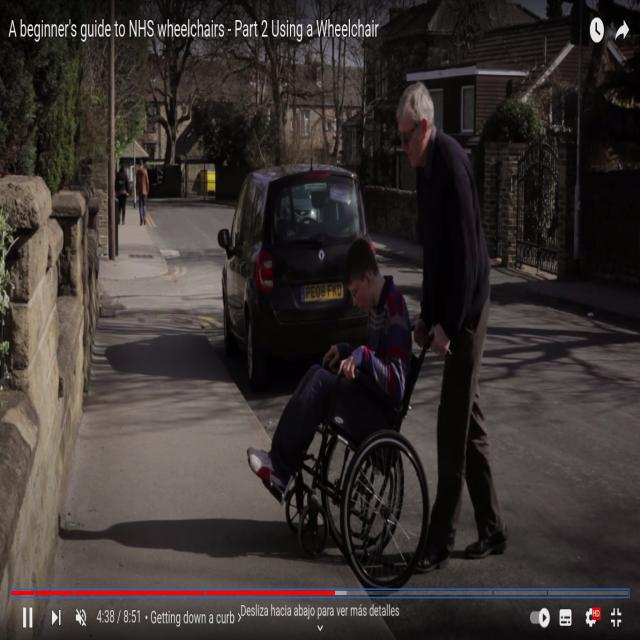wheelchairs: (288, 320, 432, 578)
